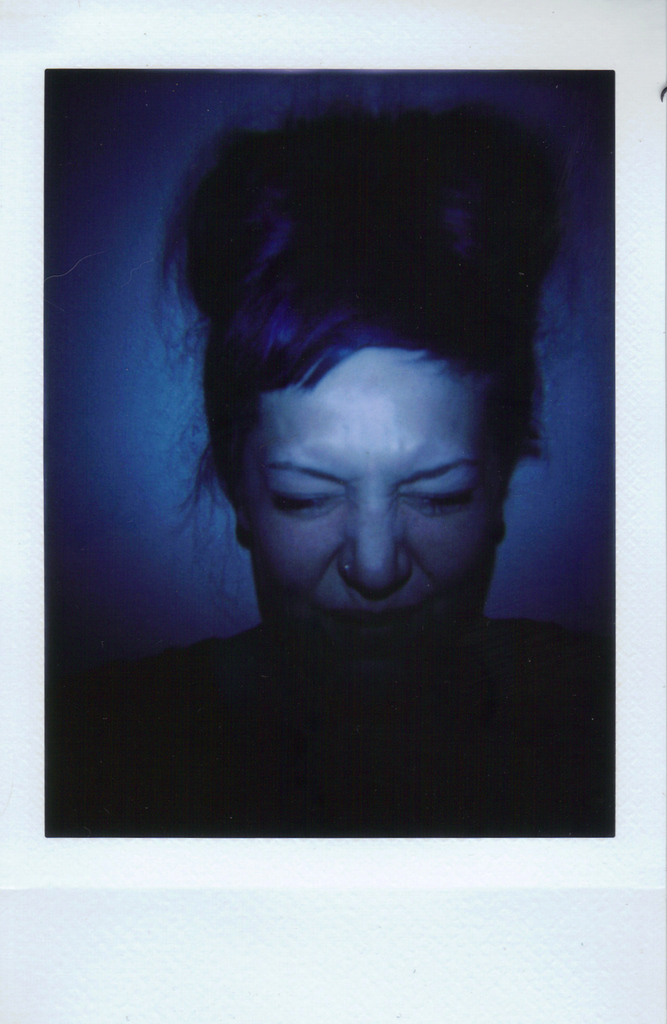Person: (45, 100, 615, 837)
